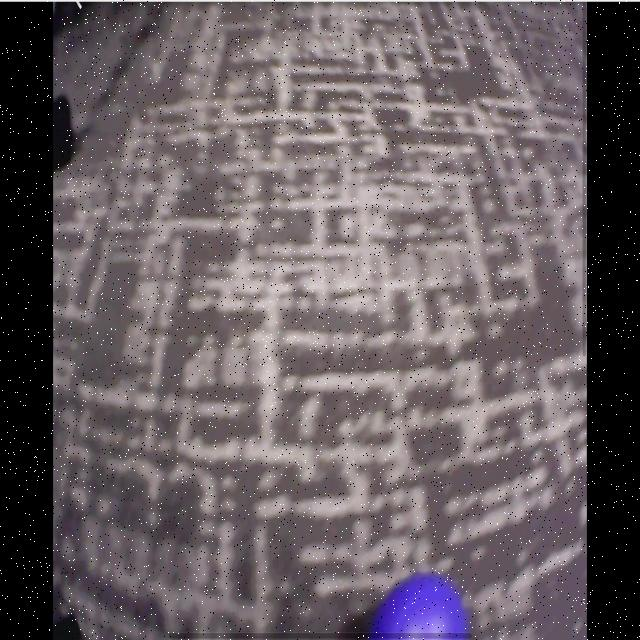ball: (375, 573, 469, 637)
